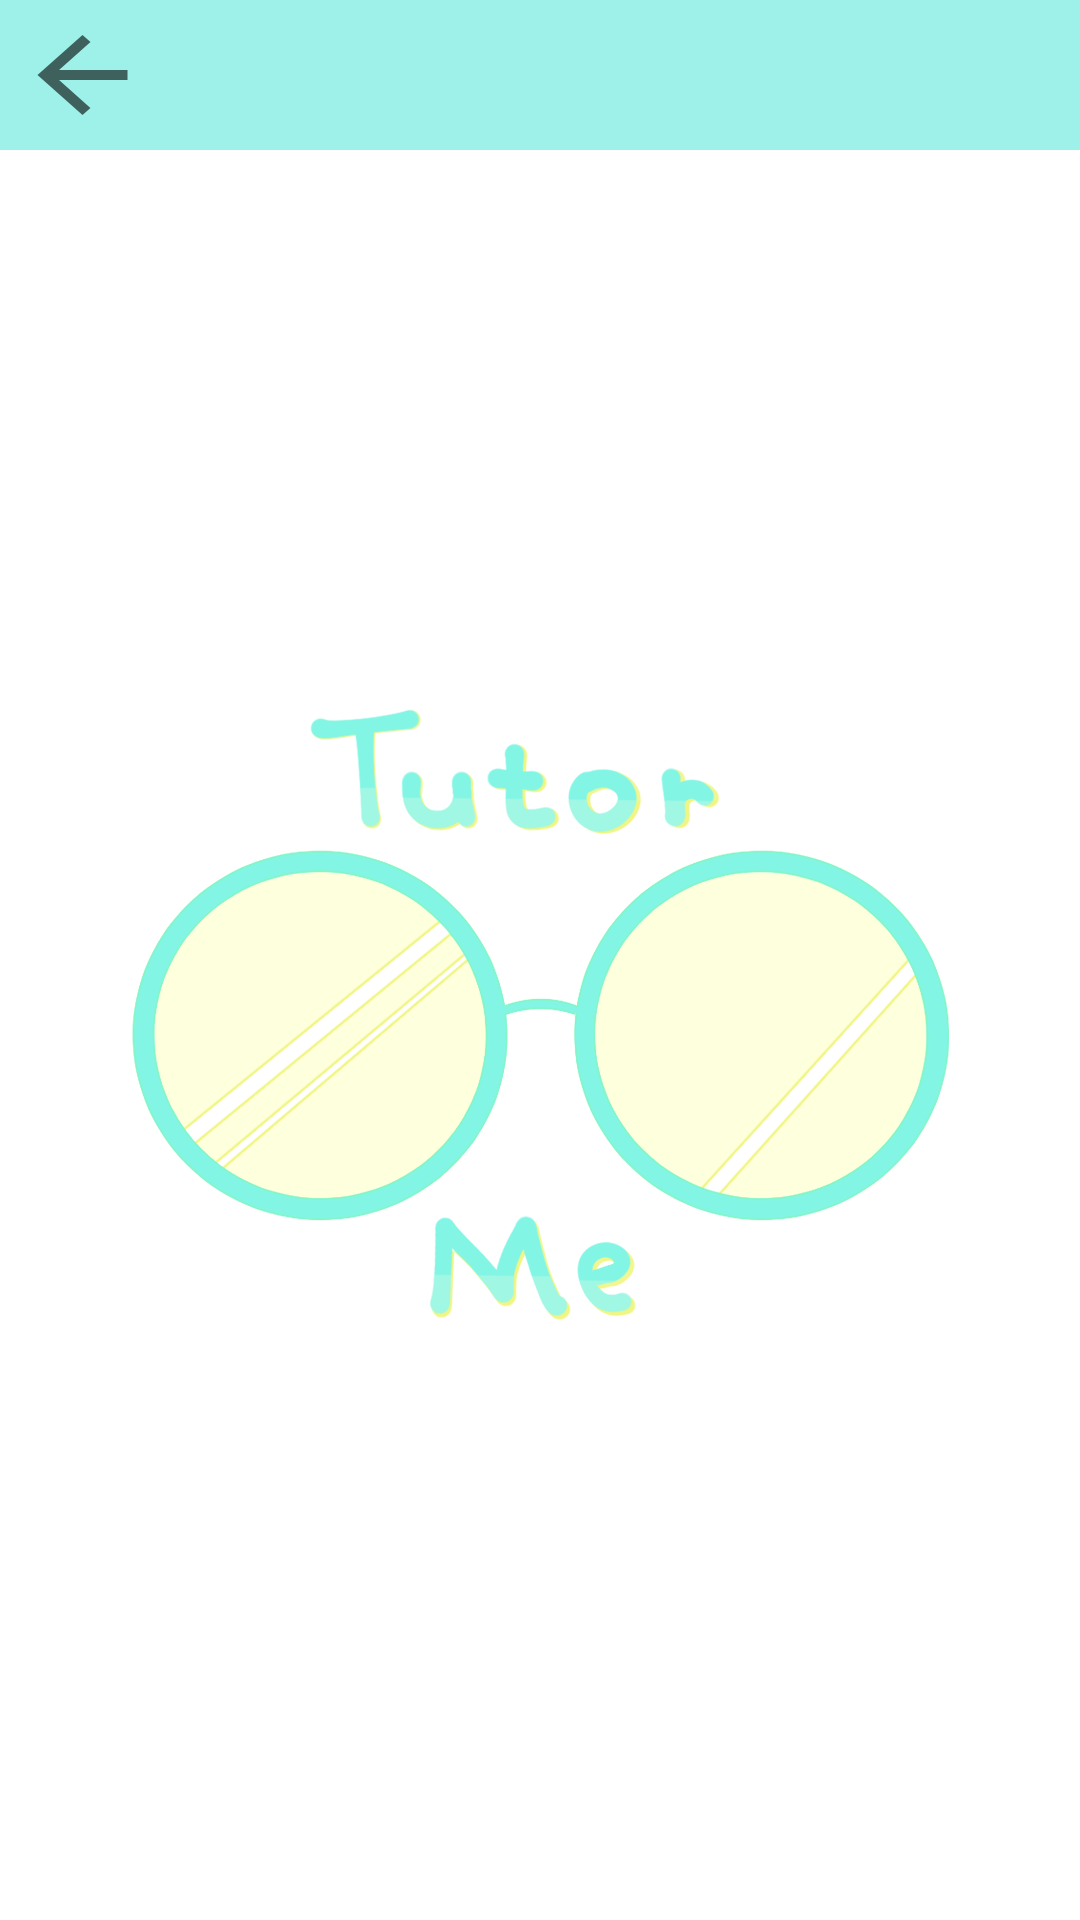

Locate icon controls on the screen. Image size 1080×1920, boxes as box=[x1, y1, x2, y2].
arrow back: box=[38, 35, 128, 115]
